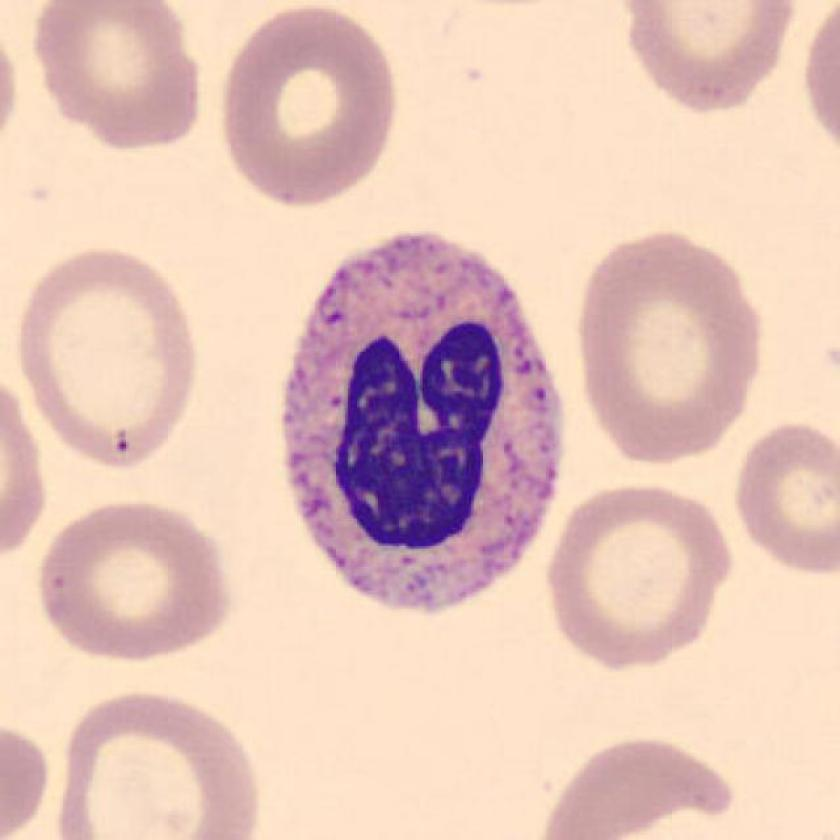neutrophil: (282, 238, 565, 612)
